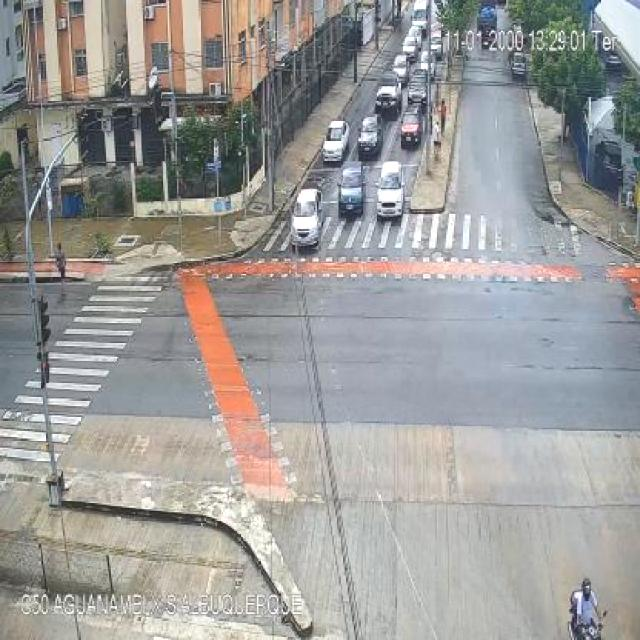Car: (290, 188, 324, 249), (378, 160, 406, 220), (398, 103, 425, 148), (322, 121, 350, 163), (358, 114, 381, 156), (406, 82, 429, 106), (401, 36, 420, 63), (391, 56, 410, 82), (510, 51, 528, 78), (420, 51, 436, 77)
Cycle: (568, 591, 608, 640)
Truck: (338, 162, 365, 214), (476, 0, 499, 44), (410, 0, 434, 35)
Van: (430, 29, 444, 58)
